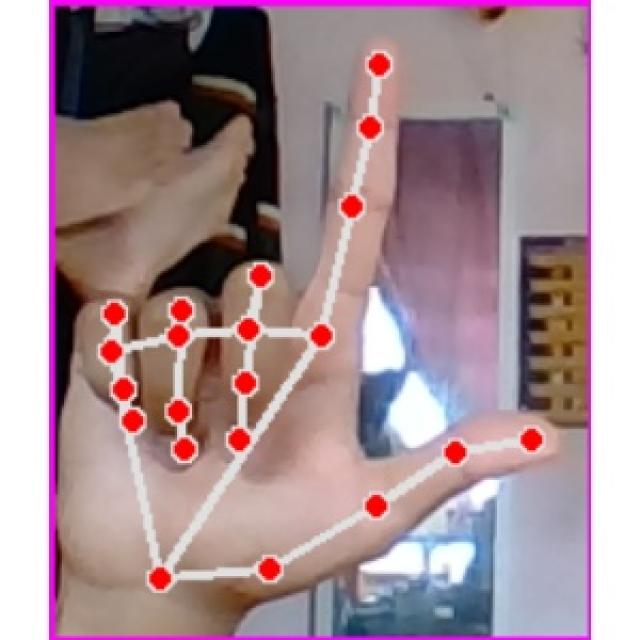L: (71, 48, 573, 606)
